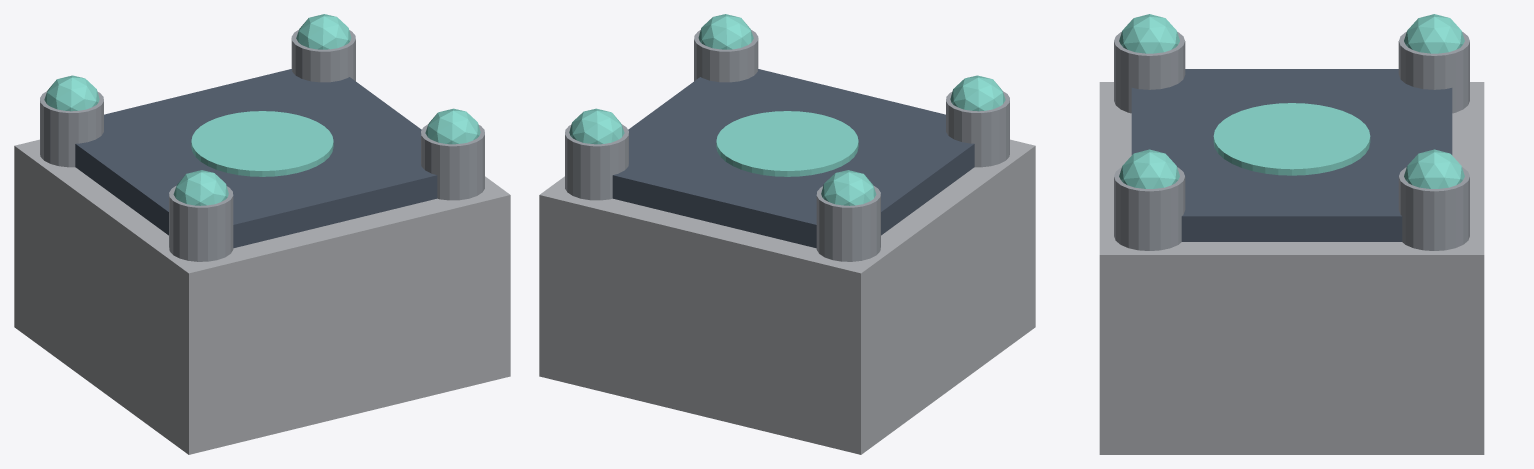
Rendered from reload_booster.glb.
3 renders of one model, left to right at view 1: azimuth 30°, elevation 25°; view 2: azimuth 150°, elevation 25°; view 3: azimuth 270°, elevation 25°, orthographic. The views are drawn at different scales.
Visible parts, largest first — view 1: part000, part001, part002, part005, part009, part003, part007, part006, part008, part010, part004; view 2: part000, part001, part002, part003, part007, part005, part009, part004, part010, part008, part006; view 3: part000, part001, part002, part007, part009, part003, part005, part004, part006, part008, part010.
Part boxes in pixels (x1,y1,x2,y2): part000: [14, 139, 510, 454]; part001: [75, 69, 437, 248]; part002: [191, 111, 333, 176]; part005: [169, 185, 233, 261]; part009: [421, 124, 484, 200]; part003: [40, 91, 103, 167]; part007: [291, 30, 355, 82]; part006: [173, 170, 228, 205]; part008: [296, 14, 351, 49]; part010: [425, 108, 480, 144]; part004: [44, 75, 99, 111]; part000: [539, 139, 1035, 454]; part001: [612, 69, 974, 248]; part002: [716, 111, 858, 176]; part003: [816, 185, 880, 261]; part007: [565, 124, 628, 200]; part005: [946, 91, 1009, 167]; part009: [694, 30, 758, 82]; part004: [821, 170, 876, 205]; part010: [698, 14, 753, 49]; part008: [569, 108, 624, 144]; part006: [950, 75, 1005, 111]; part000: [1099, 82, 1484, 454]; part001: [1131, 69, 1452, 241]; part002: [1213, 103, 1370, 175]; part007: [1398, 167, 1469, 250]; part009: [1114, 167, 1185, 250]; part003: [1398, 31, 1469, 113]; part005: [1114, 31, 1185, 113]; part004: [1404, 14, 1464, 53]; part006: [1119, 14, 1179, 53]; part008: [1404, 149, 1464, 188]; part010: [1119, 149, 1179, 188].
Size of the model in its own units: 1.28 by 0.88 by 1.28.
